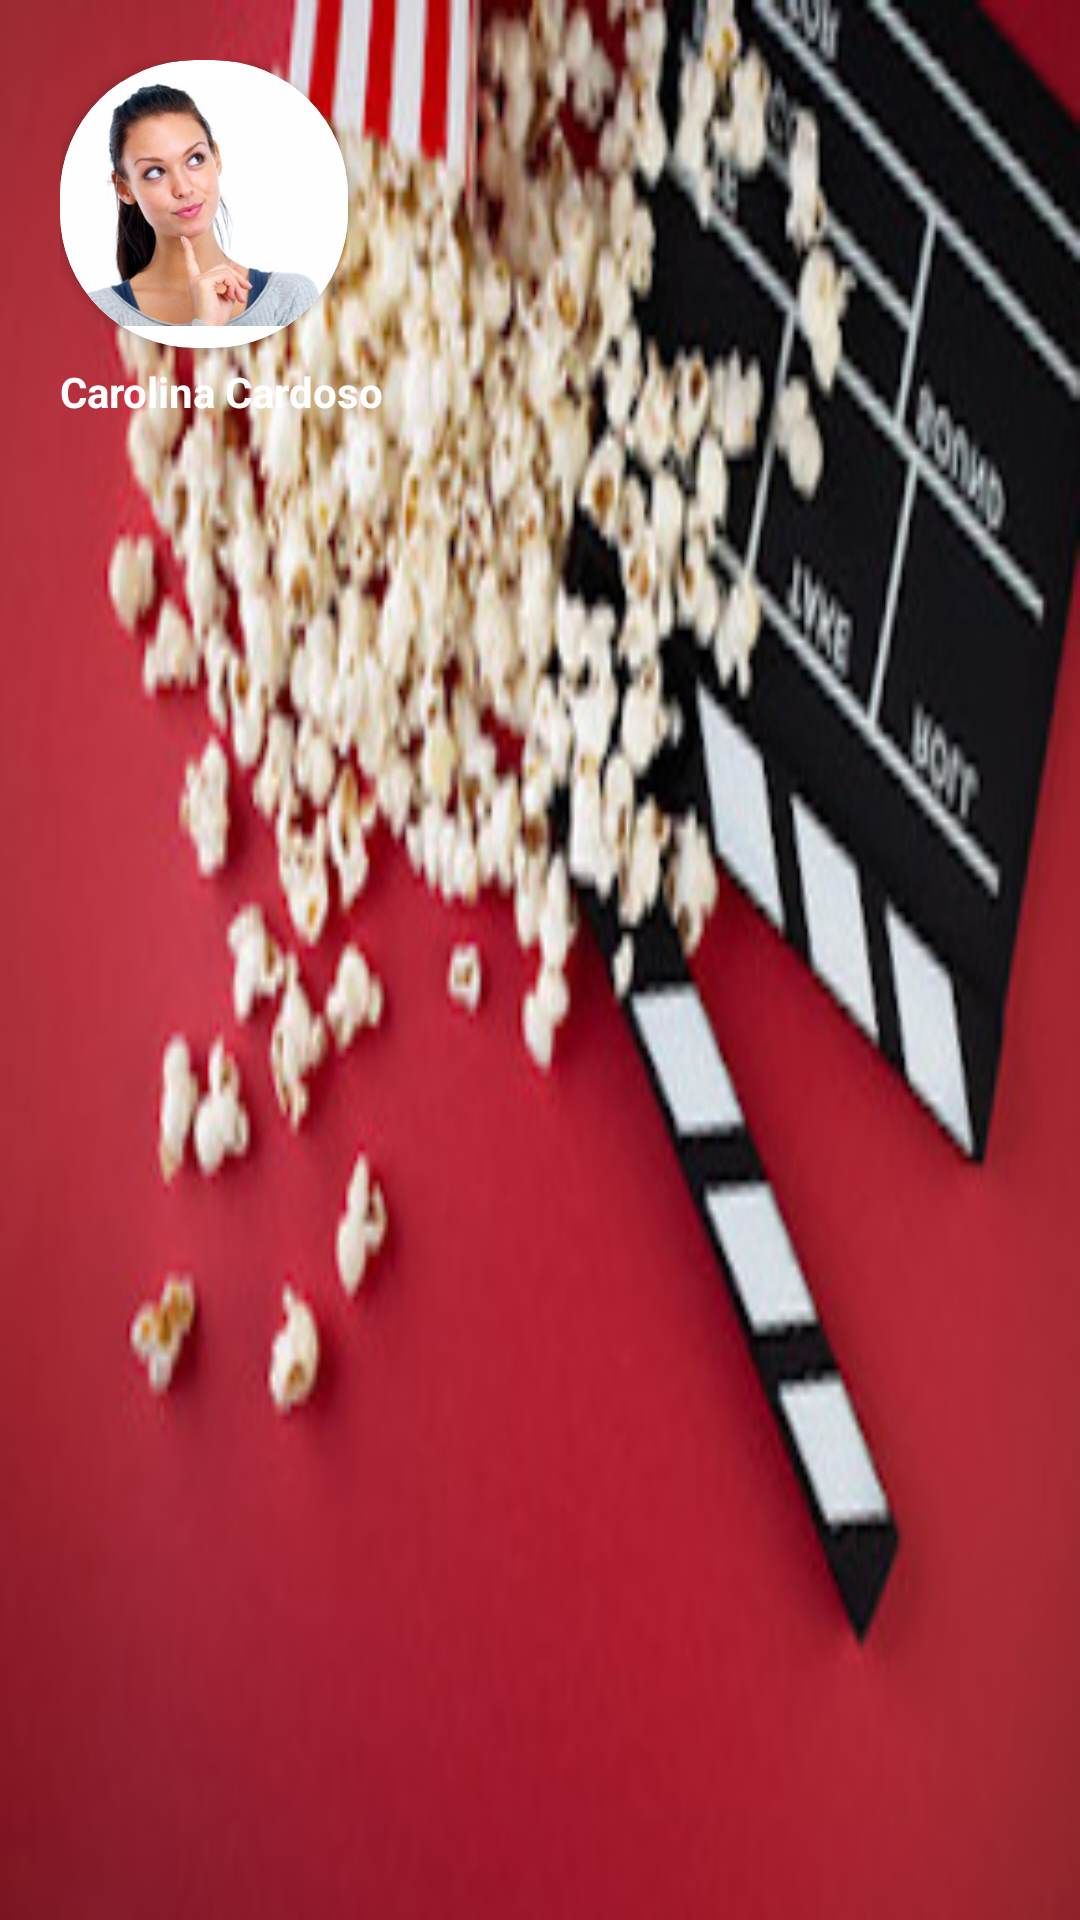

Screen size 1080 × 1920. Icon name, then its center in pixels as (x,y):
user: (204,204)
